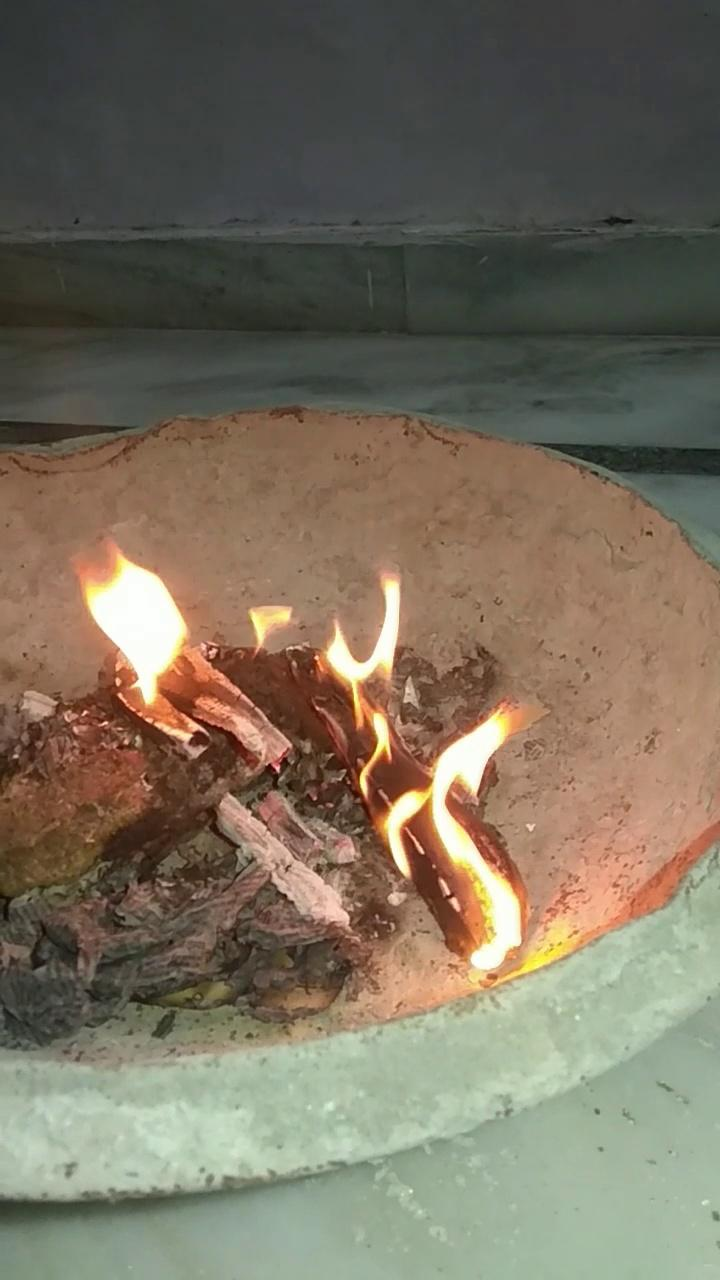fire: (95, 525, 528, 963)
